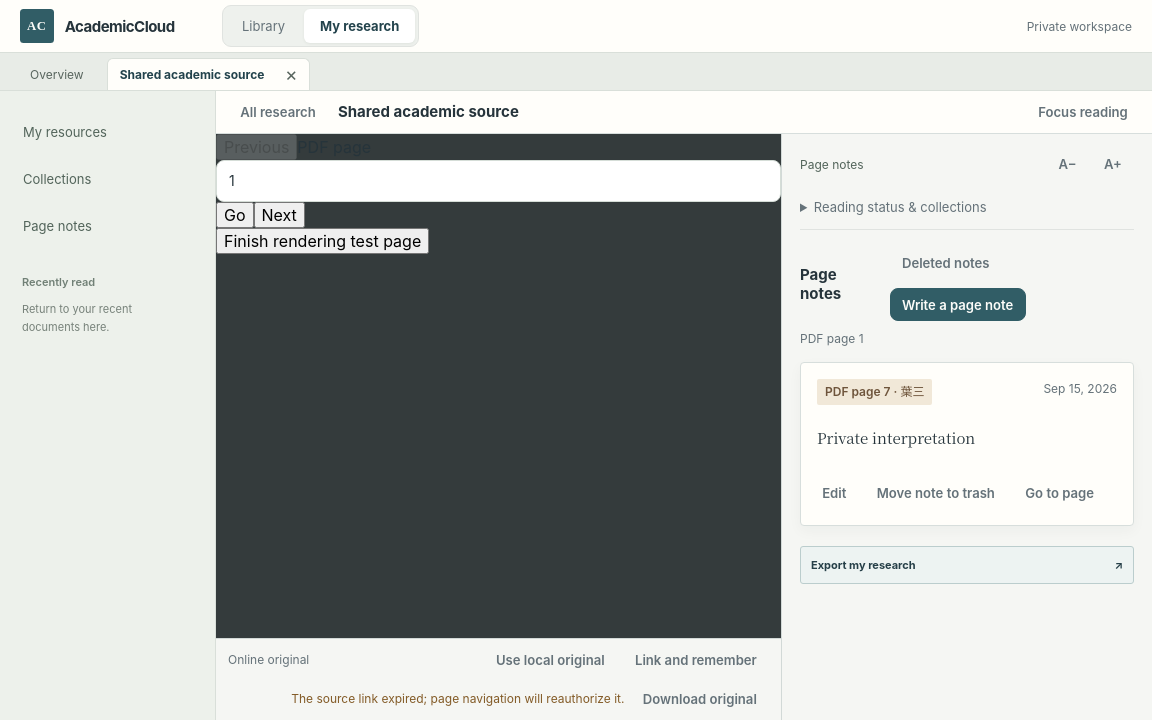
Test: private workspace › reauthorizes an expired existing-note jump and refuses a replaced source (replacement: true)
Expected: the text "The source link expired; page navigation will reauthorize it." is shown, top-left (291, 691), bottom-right (624, 707)
Click the button "Go to page".
click(1060, 493)  # box top-left (1013, 476), bottom-right (1106, 509)
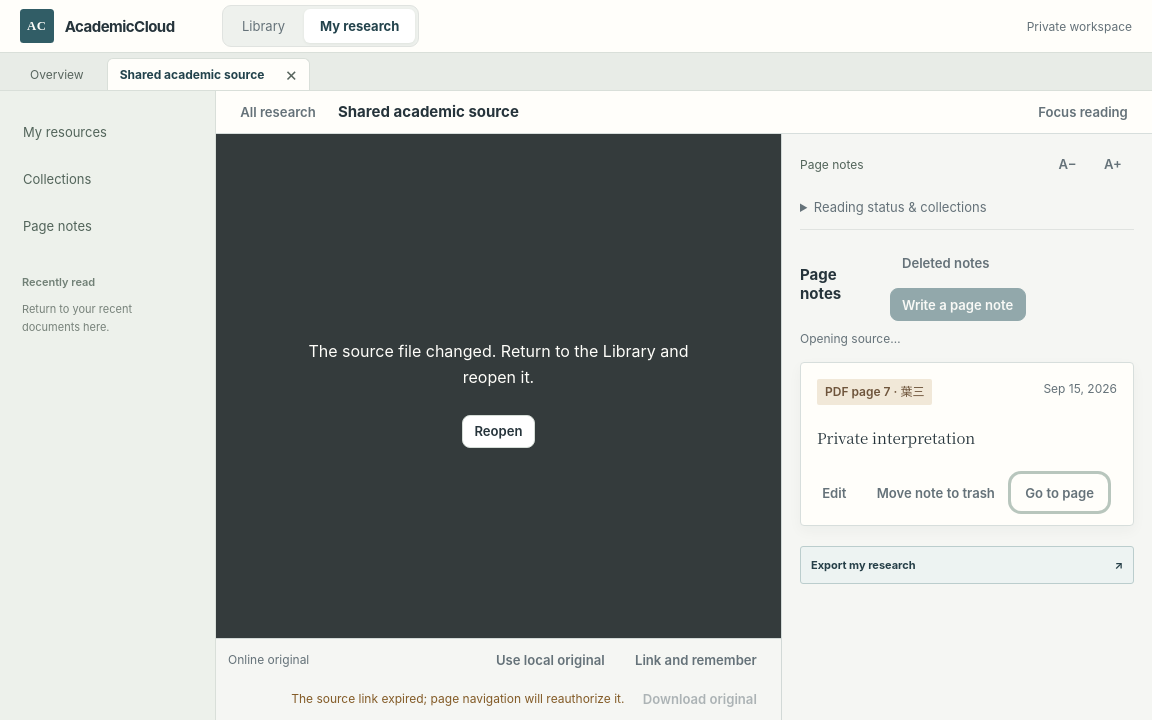
Expected: the text "The source file changed. Return to the Library and reopen it." is shown, top-left (294, 339), bottom-right (702, 390)
